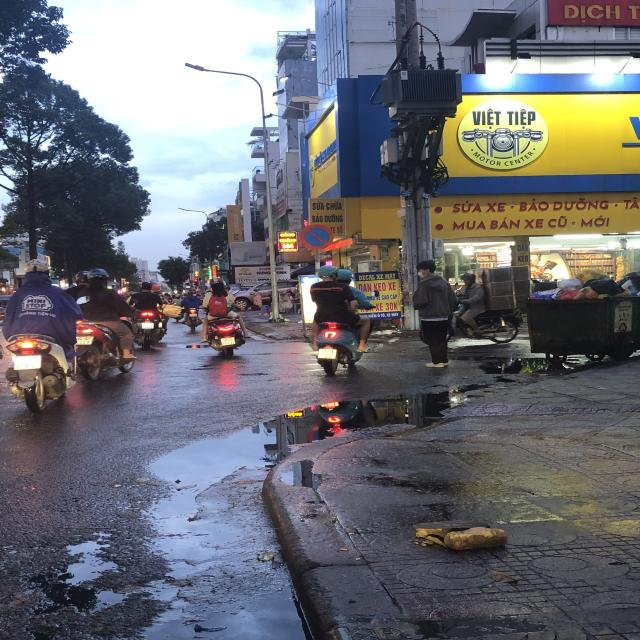Bien bao cam do xe: (298, 222, 338, 251)
